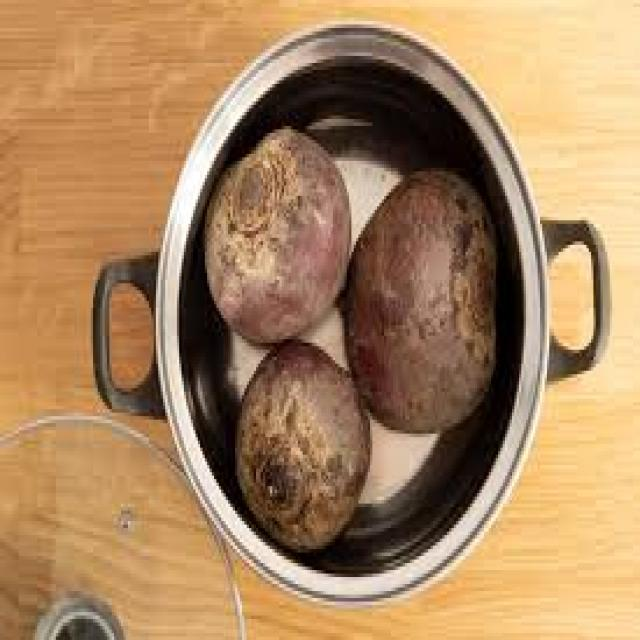Anorganik: (151, 21, 547, 602), (0, 416, 237, 636)
Organik: (342, 164, 496, 427), (203, 115, 349, 332), (230, 332, 368, 546)
